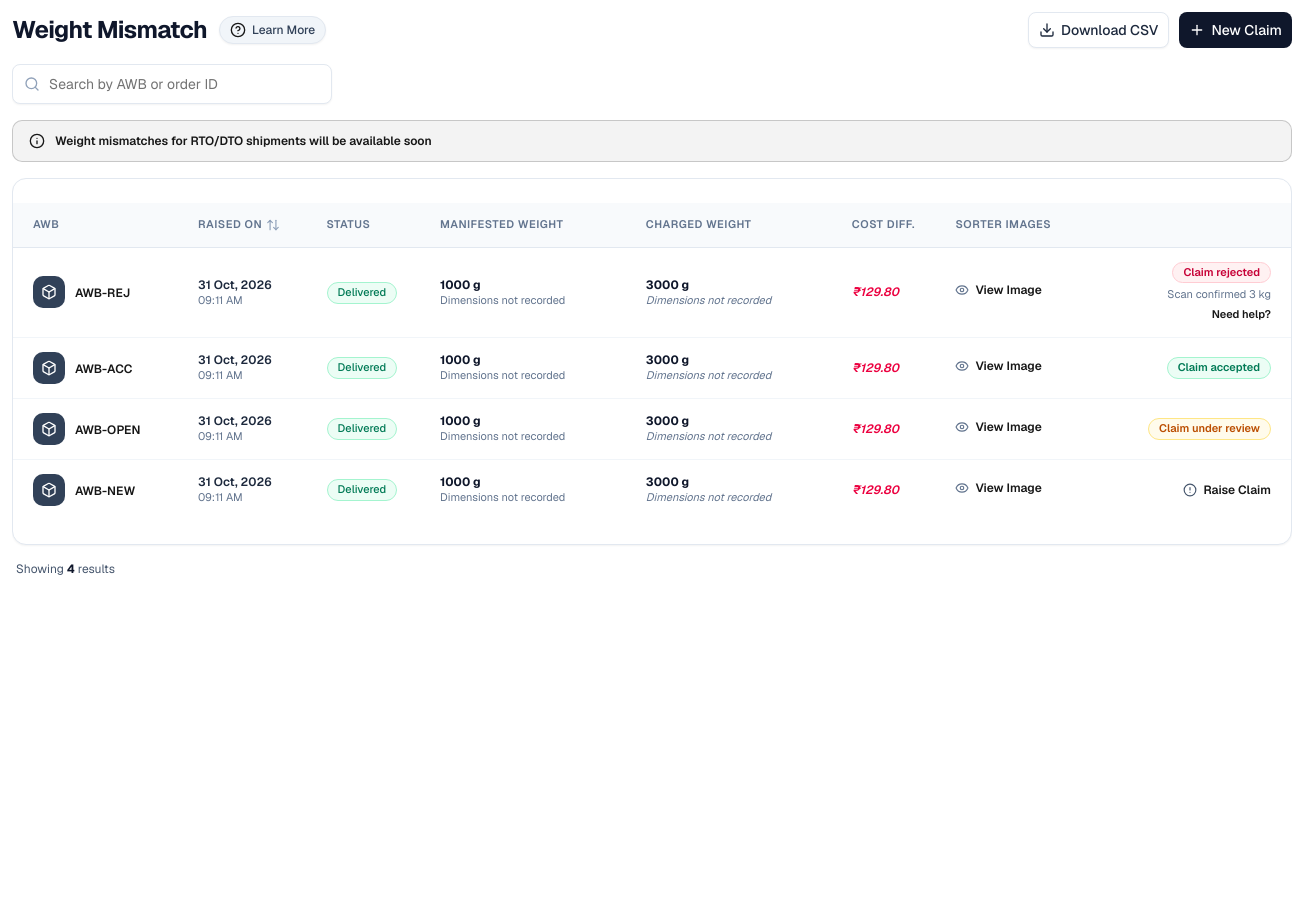
Test: Weight mismatch page › pre-fills New Claim with the first claimable AWB, not a decided one
Step 1. Click the button with test id "weight-mismatch.actions.new-claim" → click(1236, 30), box [1179, 12, 1292, 48]
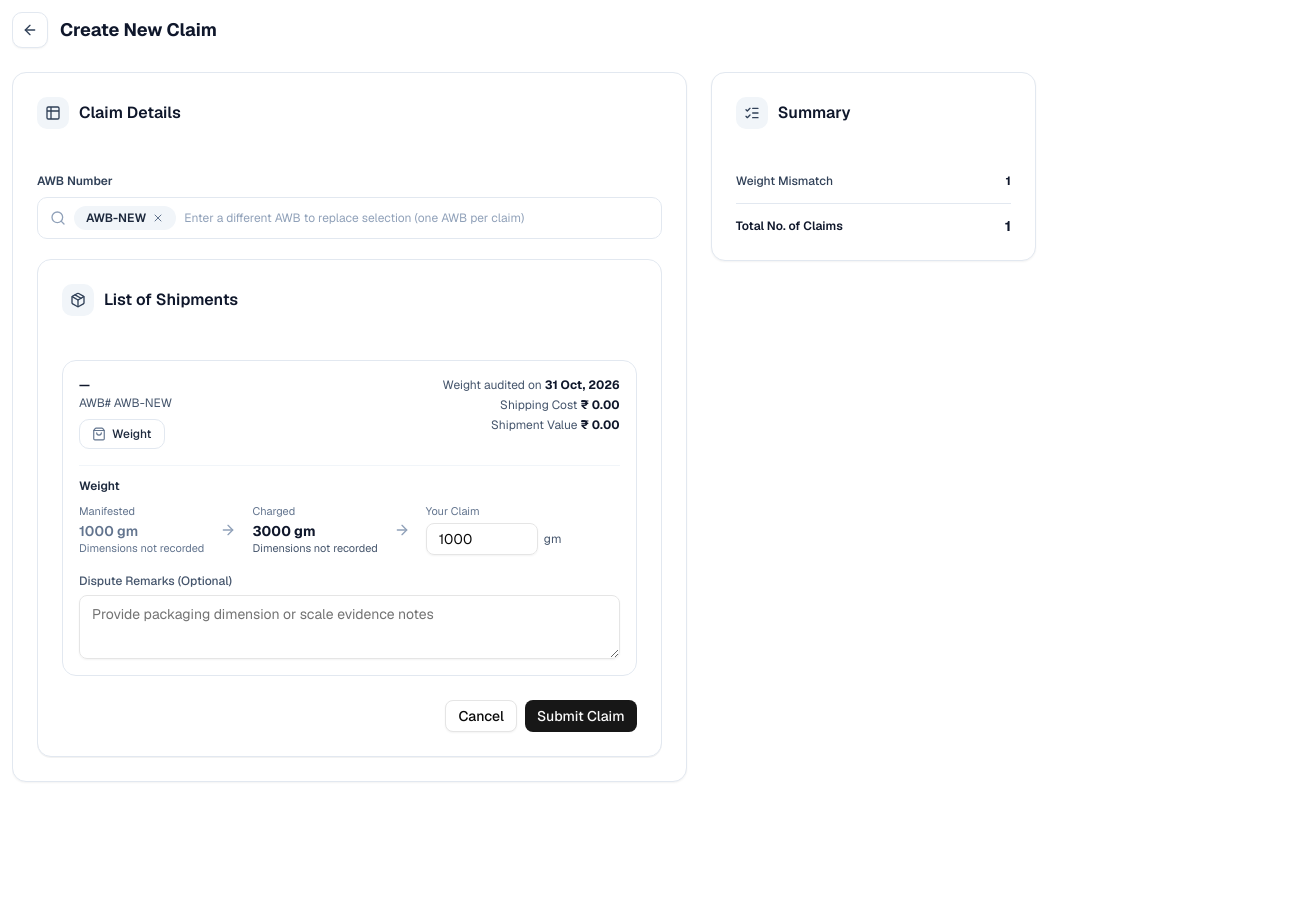
Now the heading "Create New Claim" is shown, box [60, 16, 217, 44]
Now the text "AWB# AWB-NEW" is shown, box [79, 395, 172, 411]
Now the text "Weight audited on 31 Oct, 2026" is shown, box [443, 377, 620, 393]
